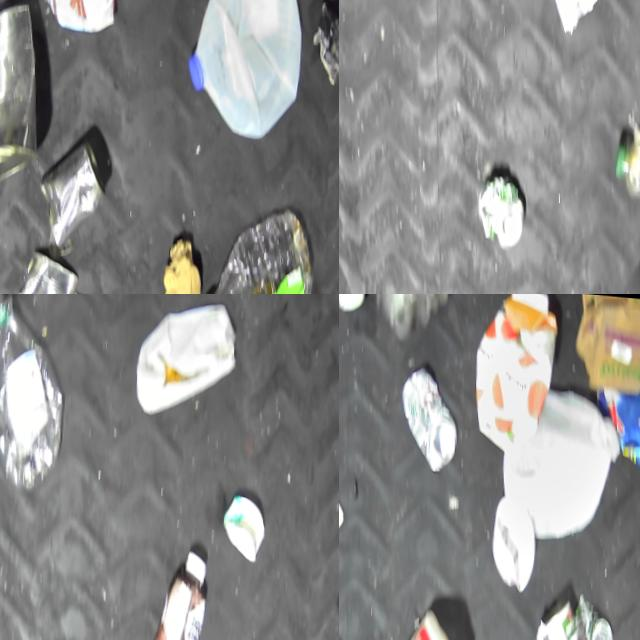can: (33, 131, 105, 247), (0, 0, 40, 198), (393, 359, 460, 472), (466, 163, 523, 251), (8, 243, 77, 294), (530, 584, 585, 640), (579, 588, 611, 640)
milk_jug: (496, 374, 622, 543), (179, 0, 303, 139), (127, 294, 242, 418), (345, 597, 463, 640), (35, 0, 116, 33)
non_white_jug: (470, 294, 562, 453)
plastic_bottle: (0, 294, 73, 498), (195, 193, 313, 294), (605, 110, 640, 264)
